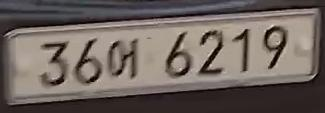1: (229, 26, 257, 76)
2: (195, 26, 227, 76)
3: (37, 37, 71, 89)
6: (72, 34, 105, 86), (162, 28, 195, 79)
9: (260, 23, 291, 72)
어: (105, 37, 142, 80)
